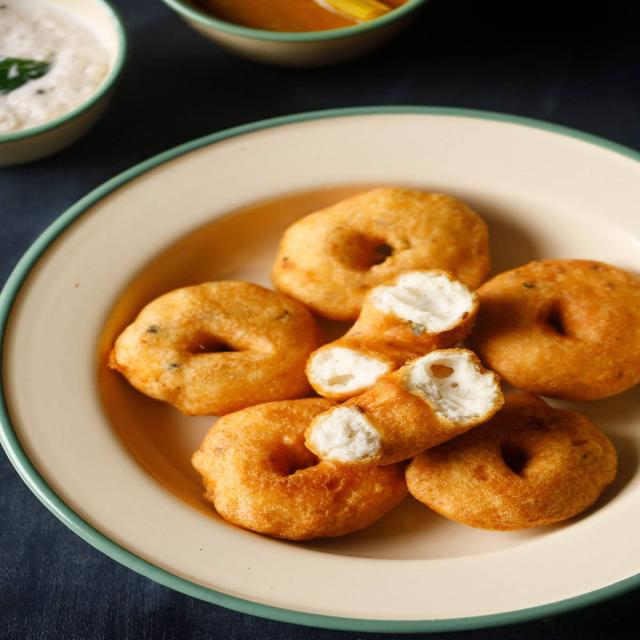MEDU VADA: (278, 185, 483, 321), (420, 397, 621, 531), (126, 286, 317, 419), (206, 407, 388, 534), (476, 261, 639, 400)
